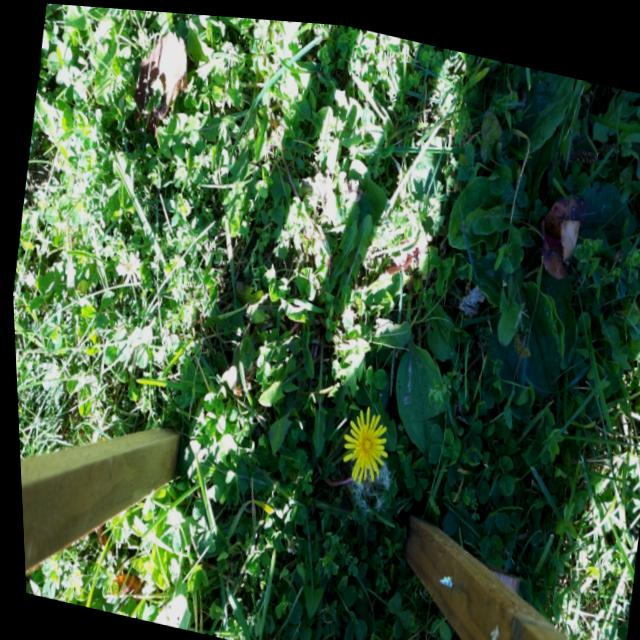base: (302, 445, 329, 480)
